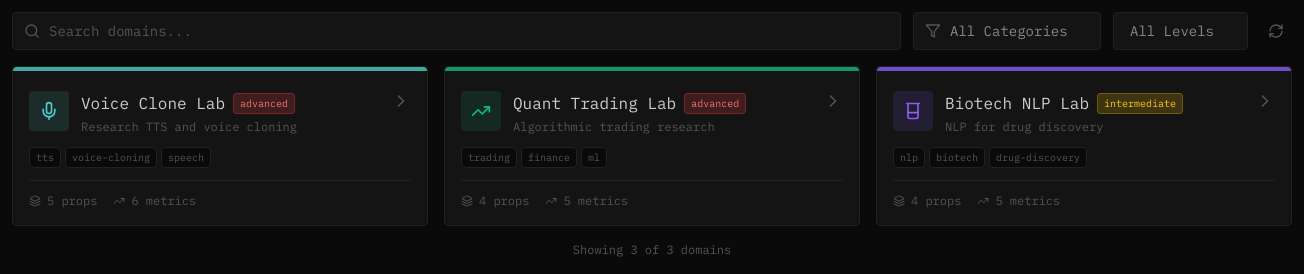
it: DomainBrowser › search filtering › filters domains by search query
The image size is (1304, 274).
In the field with placeholder "Search domains...": (456, 31) 12,12 -> 901,50, type "trading"
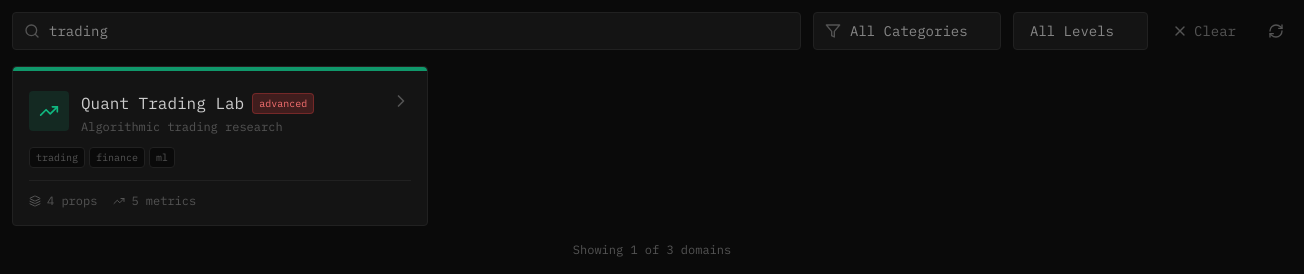
Expected: the heading "Quant Trading Lab" is shown, 81,91 -> 244,115
Now the link "Voice Clone Lab" is gone
